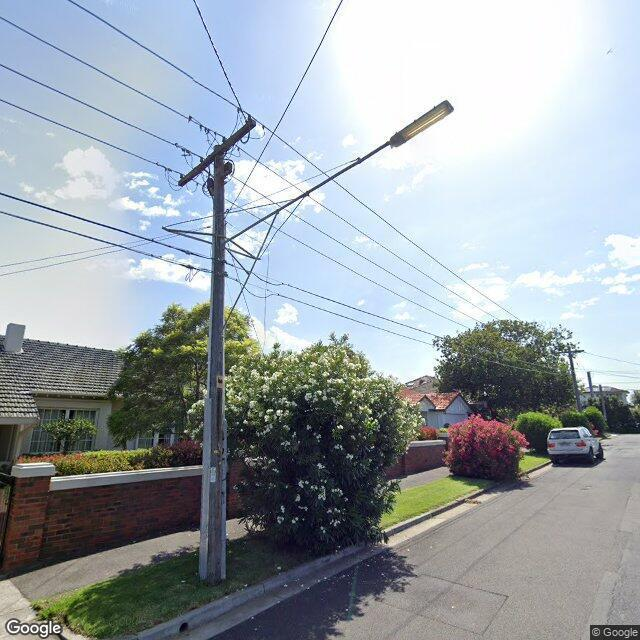crossarm: (178, 120, 256, 186), (561, 350, 584, 352)
streetlight: (224, 100, 454, 244)
timber-pole: (198, 145, 225, 586), (567, 343, 582, 412), (599, 384, 606, 422), (587, 372, 594, 397)
